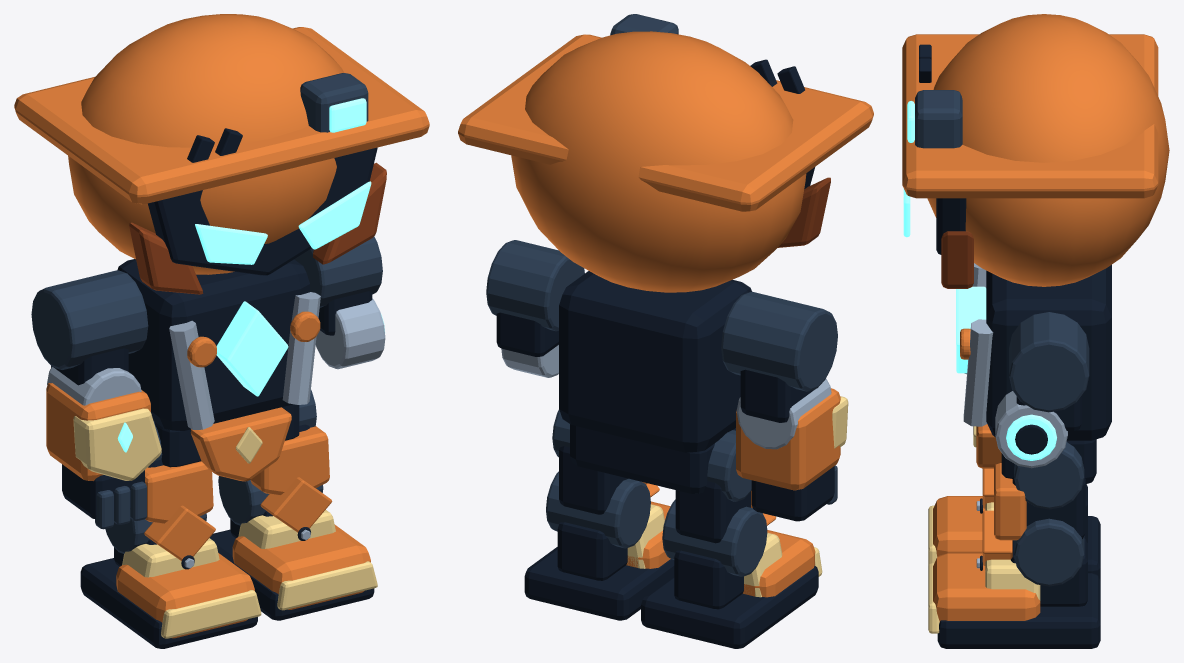
Rendered from rivet.glb.
3 renders of one model, left to right at view 1: azimuth 30°, elevation 25°; view 2: azimuth 150°, elevation 25°; view 3: azimuth 270°, elevation 25°, orthographic.
Visible parts, largest first — view 1: HeadArmor, LeftArmArmor, TorsoArmor, LeftLegArmor, RightLegArmor, RigArmor, HipsArmor, Core, EyeRight, EyeLeft; view 2: HeadArmor, TorsoArmor, LeftArmArmor, LeftLegArmor, RightLegArmor, RigArmor, HipsArmor; view 3: HeadArmor, RightLegArmor, TorsoArmor, RigArmor, LeftLegArmor, HipsArmor, Core.
Part boxes in pixels (x1,y1,x2,y2): HeadArmor: [14, 14, 429, 294]; LeftArmArmor: [31, 270, 161, 529]; TorsoArmor: [117, 259, 320, 431]; LeftLegArmor: [80, 421, 261, 648]; RightLegArmor: [210, 390, 377, 620]; RigArmor: [294, 236, 385, 369]; HipsArmor: [154, 404, 299, 481]; Core: [216, 301, 288, 396]; EyeRight: [298, 181, 371, 249]; EyeLeft: [195, 224, 267, 264]; HeadArmor: [458, 14, 873, 292]; TorsoArmor: [559, 271, 751, 452]; LeftArmArmor: [721, 291, 848, 521]; LeftLegArmor: [641, 430, 822, 648]; RightLegArmor: [524, 409, 674, 620]; RigArmor: [486, 240, 584, 377]; HipsArmor: [570, 424, 735, 493]; HeadArmor: [902, 14, 1169, 288]; RightLegArmor: [928, 442, 1100, 648]; TorsoArmor: [960, 263, 1111, 440]; RigArmor: [995, 312, 1089, 468]; LeftLegArmor: [928, 468, 1100, 580]; HipsArmor: [973, 424, 1096, 483]; Core: [956, 286, 986, 373].
Size of the model in its own units: 1.47 by 2.49 by 1.06.
